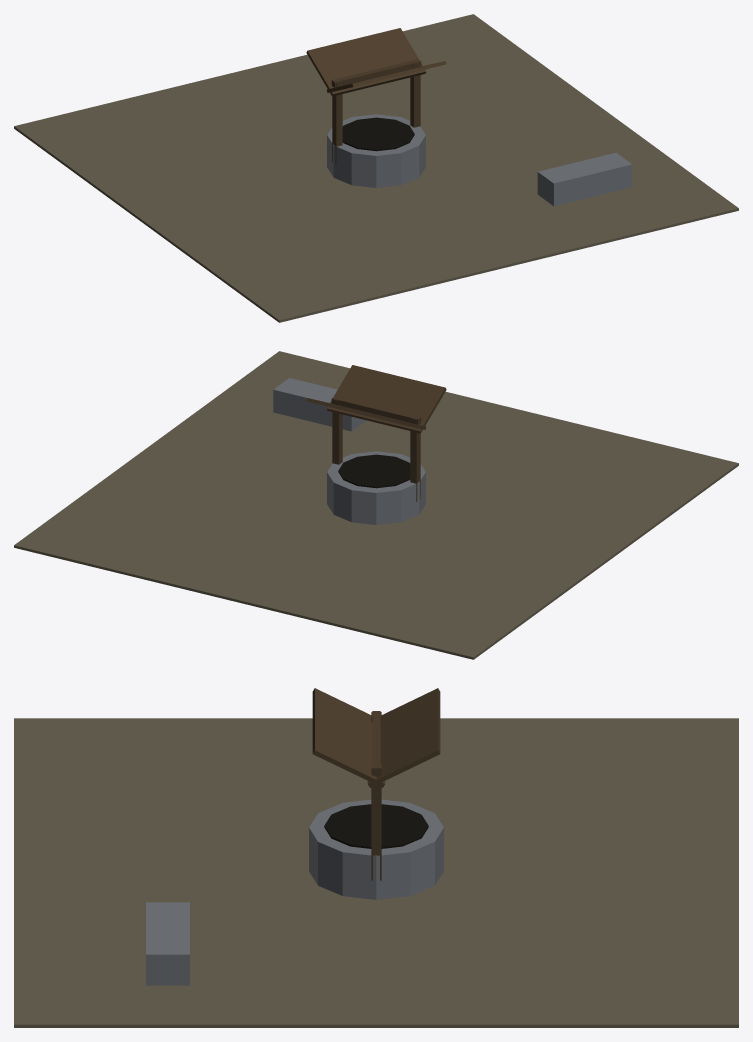
File: CourtyardWellYard.fbx
3 renders of one model, top to bottom at view 1: azimuth 30°, elevation 25°; view 2: azimuth 150°, elevation 25°; view 3: azimuth 270°, elevation 25°, orthographic. The views are drawn at different scales.
Parts seen in each view (by area): view 1: CourtyardWellYard; view 2: CourtyardWellYard; view 3: CourtyardWellYard.
Boxes of the visible parts, box(x1,y1,x2,y2) form: CourtyardWellYard: box(14, 14, 738, 322); CourtyardWellYard: box(14, 351, 738, 659); CourtyardWellYard: box(14, 688, 738, 1027).
Size of the model in its own units: 1182 by 280 by 1182.
Materials: 4 (4 with a texture image).
